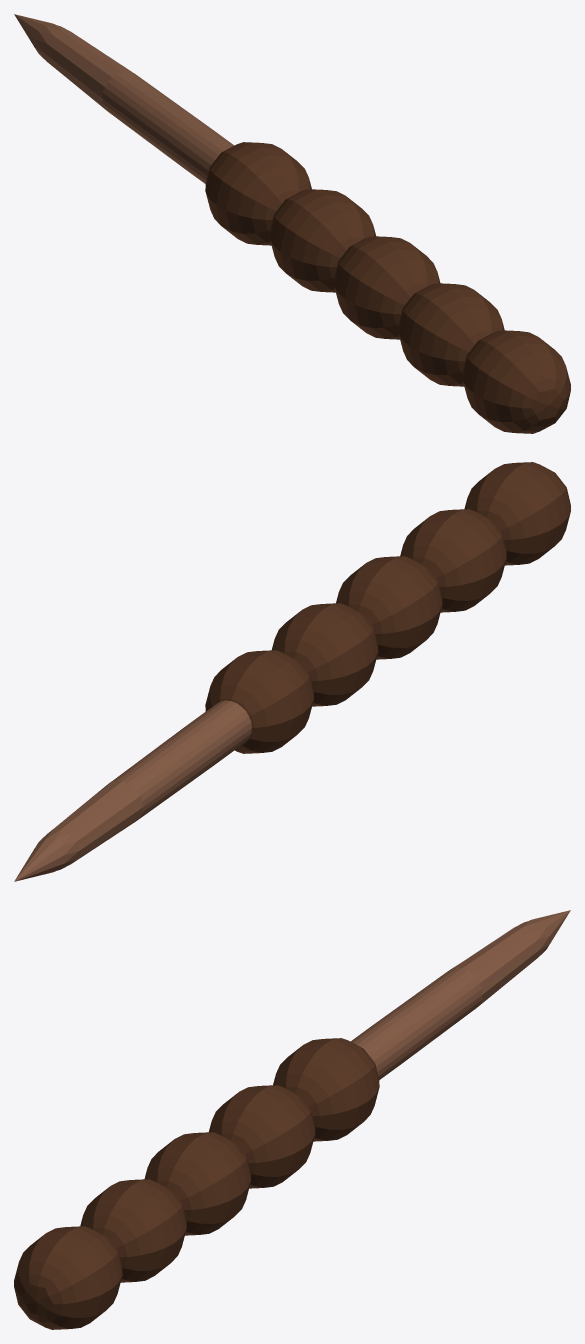
File: Wand 2.glb
3 renders of one model, top to bottom at view 1: azimuth 30°, elevation 25°; view 2: azimuth 150°, elevation 25°; view 3: azimuth 330°, elevation 25°, orthographic.
Visible parts, largest first — view 1: GeneratedWand; view 2: GeneratedWand; view 3: GeneratedWand.
Boxes of the visible parts, x1,y1,x2,y2 form: GeneratedWand: (14,14,570,433); GeneratedWand: (14,462,570,881); GeneratedWand: (14,910,570,1329).
Size of the model in its own units: 0.0447 by 0.0449 by 0.472.
